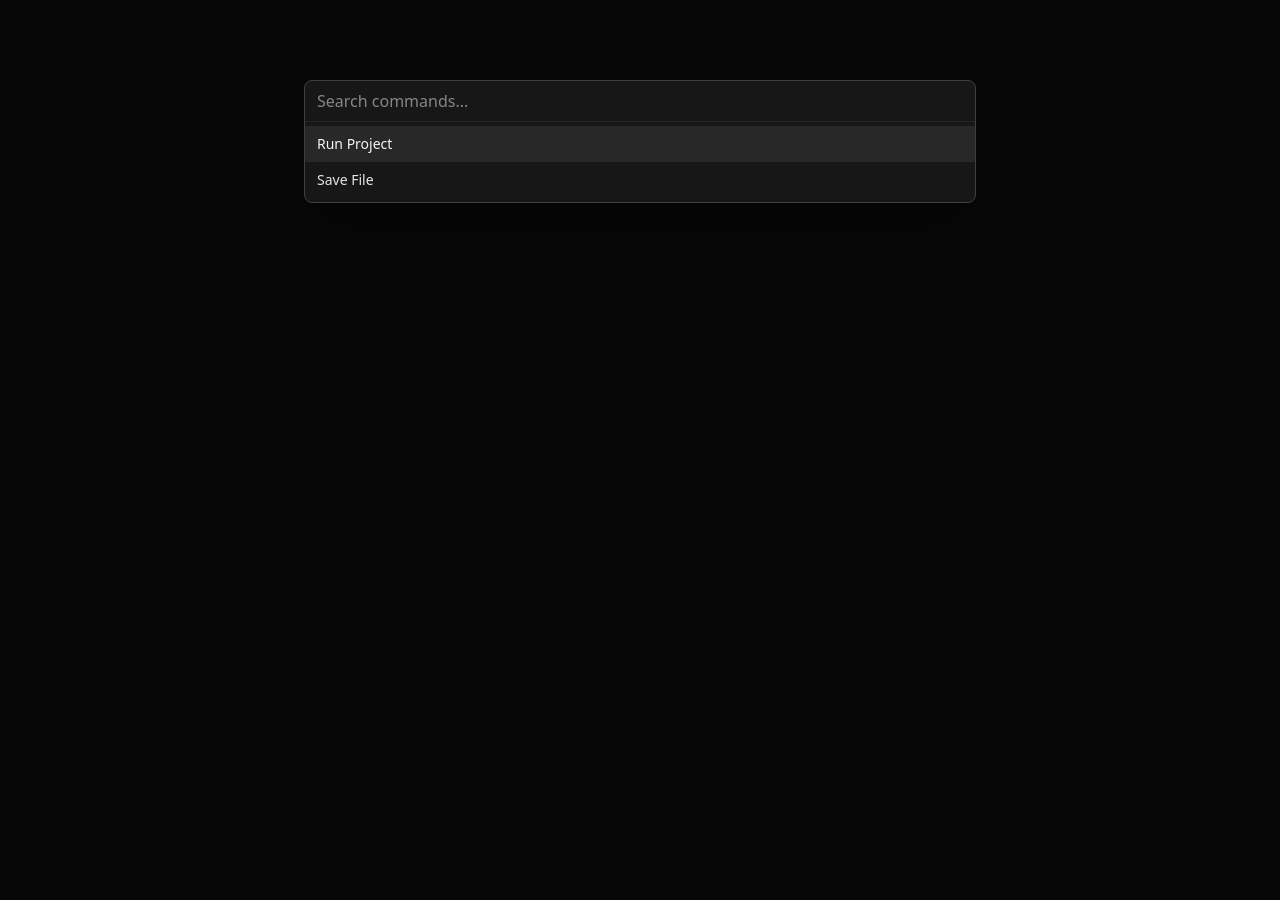
Test: CommandPalette › filters by query
Type "save" into the field with placeholder "Search commands...". click: (640, 101)
box: [317,90,963,113]
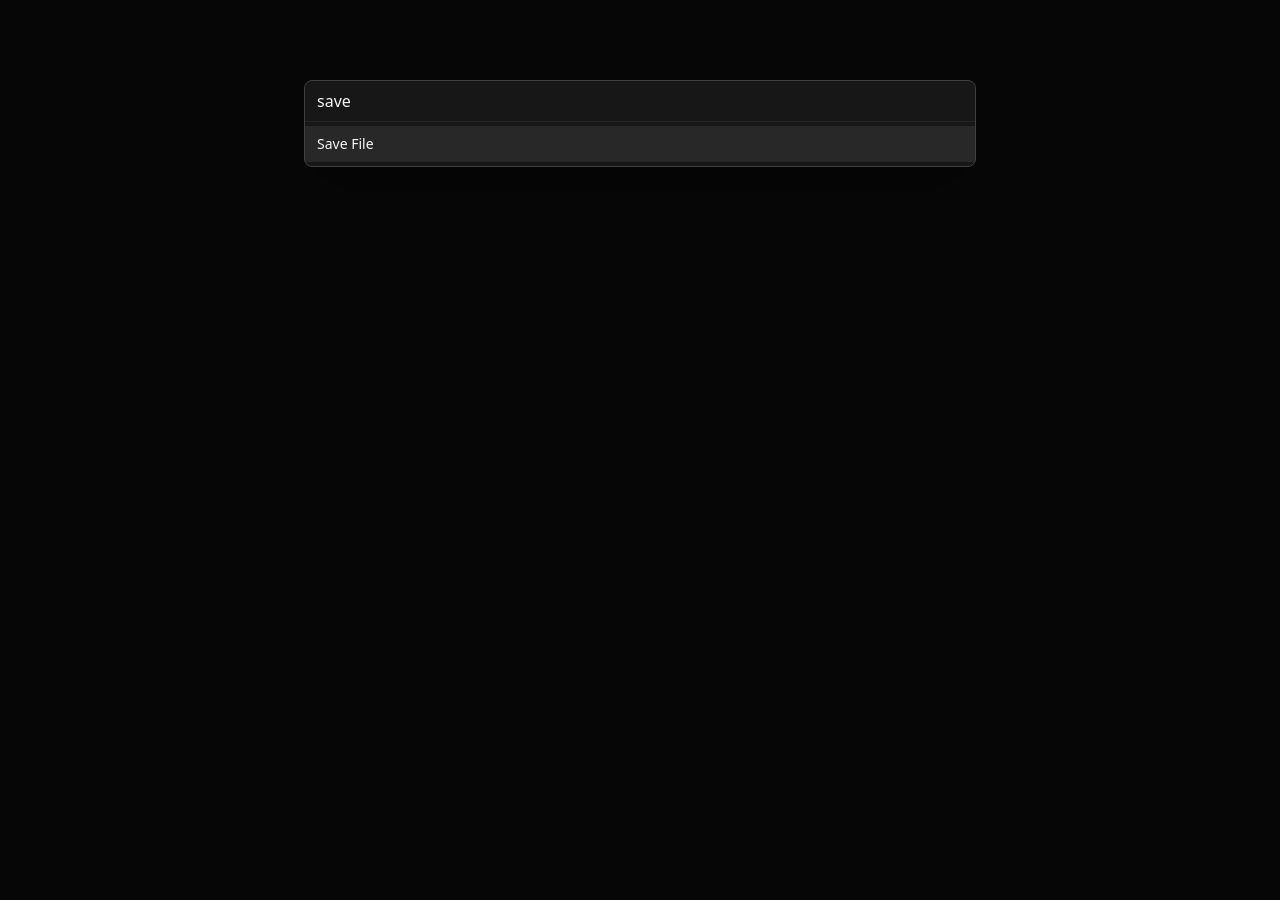
Expected: the text "Save File" is shown, [317,134,374,154]
Now the button "Run Project" is gone
